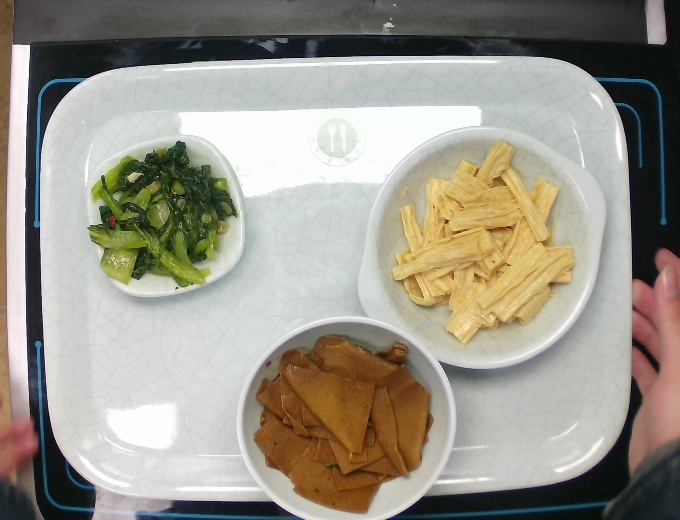JYsf-Fan_Wan: (239, 315, 455, 520)
JYsf-Shuang_Er_Wan: (356, 125, 605, 373)
JYsf-Si_Fang_Die: (85, 133, 250, 300)
